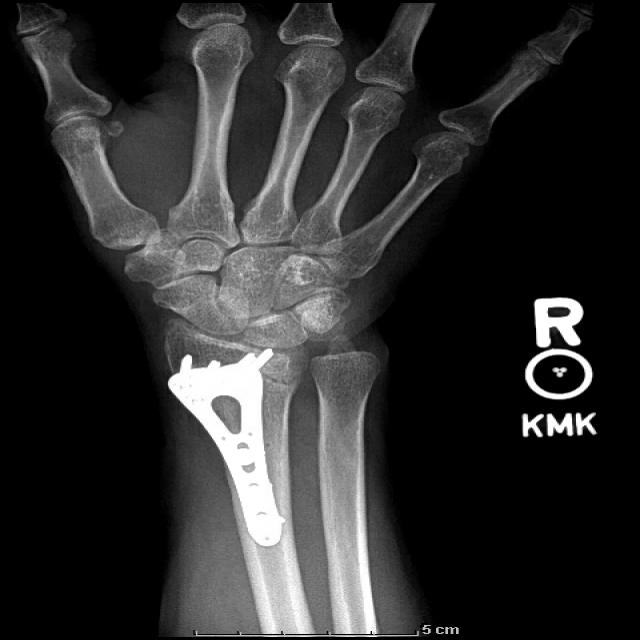x-ray: (158, 339, 334, 560)
